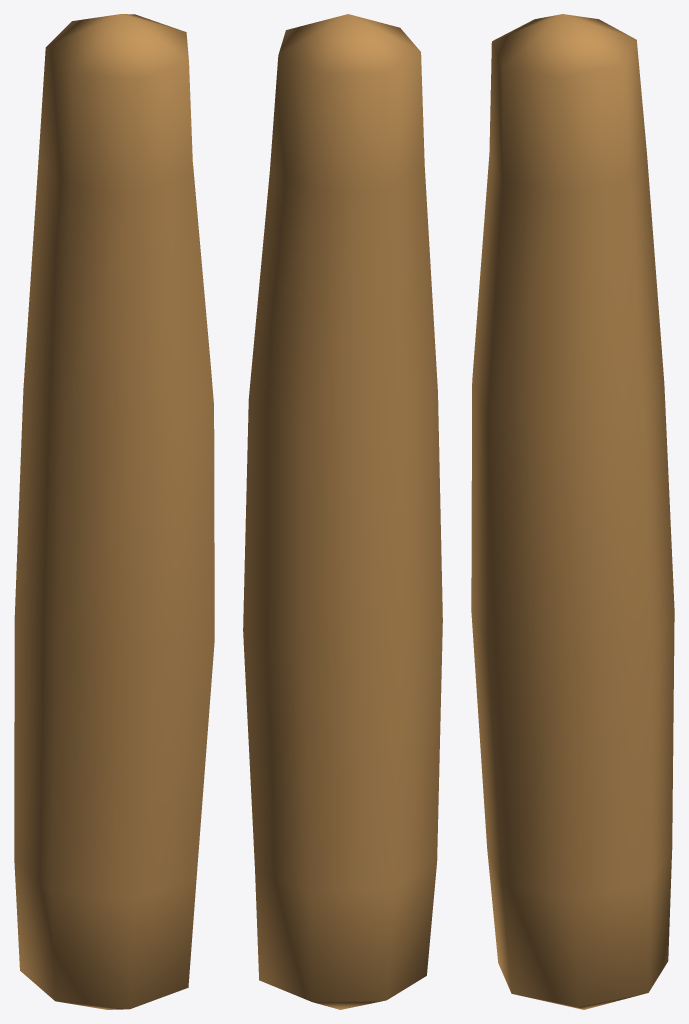
File: tarsus3_T2_right_leg.obj
The picture shows the model from 3 angles, left to right: view 1: azimuth 30°, elevation 25°; view 2: azimuth 150°, elevation 25°; view 3: azimuth 270°, elevation 25°; orthographic projection.
Bounding box in the file's own units: 0.00254 × 0.014 × 0.00258.
